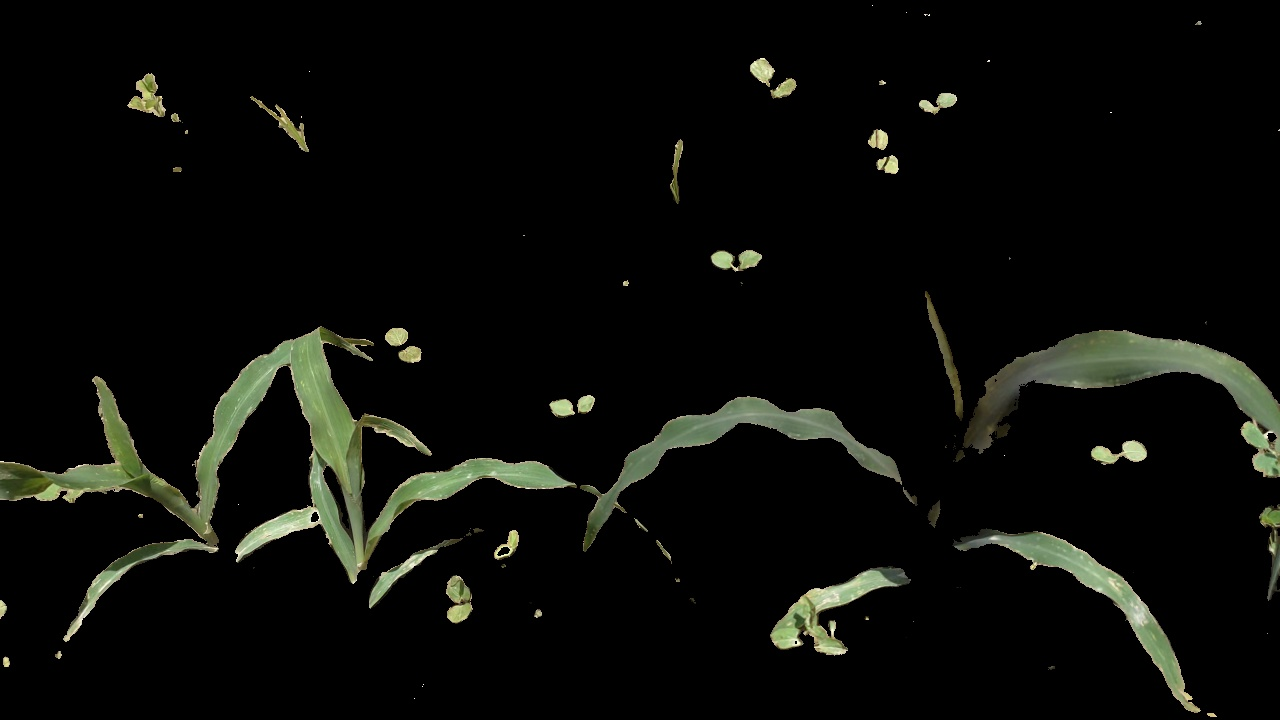crop: (685, 304, 1205, 667), (261, 316, 540, 633), (14, 341, 246, 581)
weed: (243, 81, 321, 159), (693, 230, 770, 285), (124, 63, 185, 132), (656, 129, 702, 210), (1095, 430, 1159, 479), (376, 316, 434, 362), (743, 48, 793, 100), (906, 82, 975, 119), (869, 123, 906, 181), (440, 569, 473, 633), (541, 387, 599, 417)
